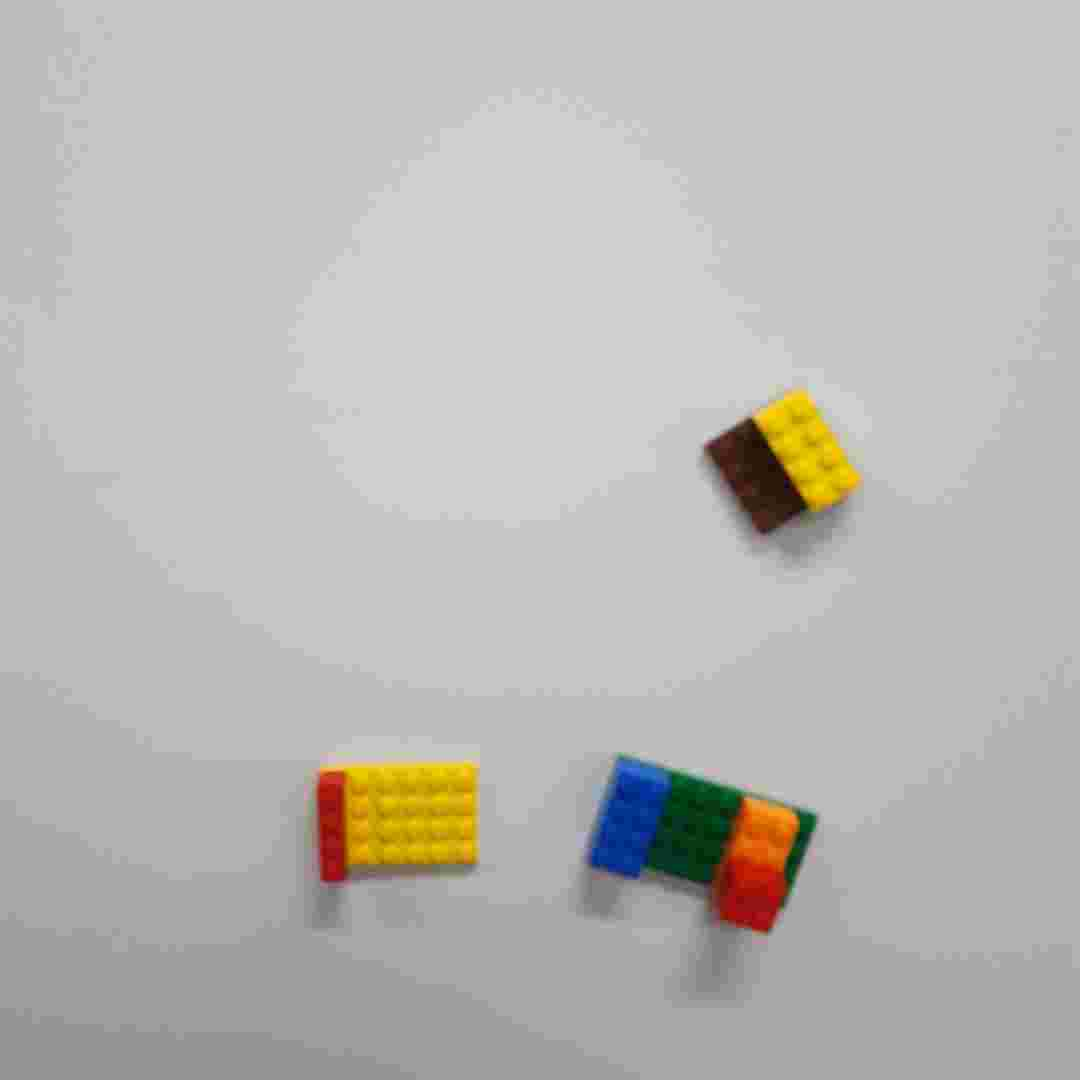LEGO: (586, 753, 817, 934), (698, 384, 868, 538), (312, 756, 490, 879)
